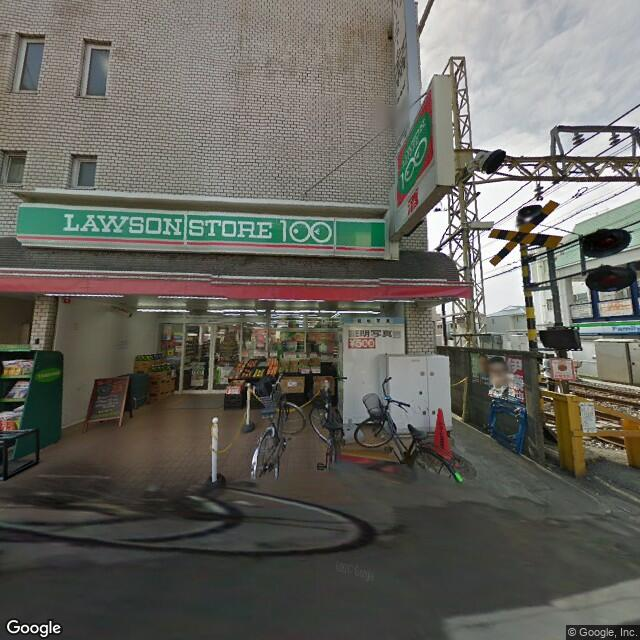lawson: (13, 195, 386, 263), (394, 112, 432, 164)
